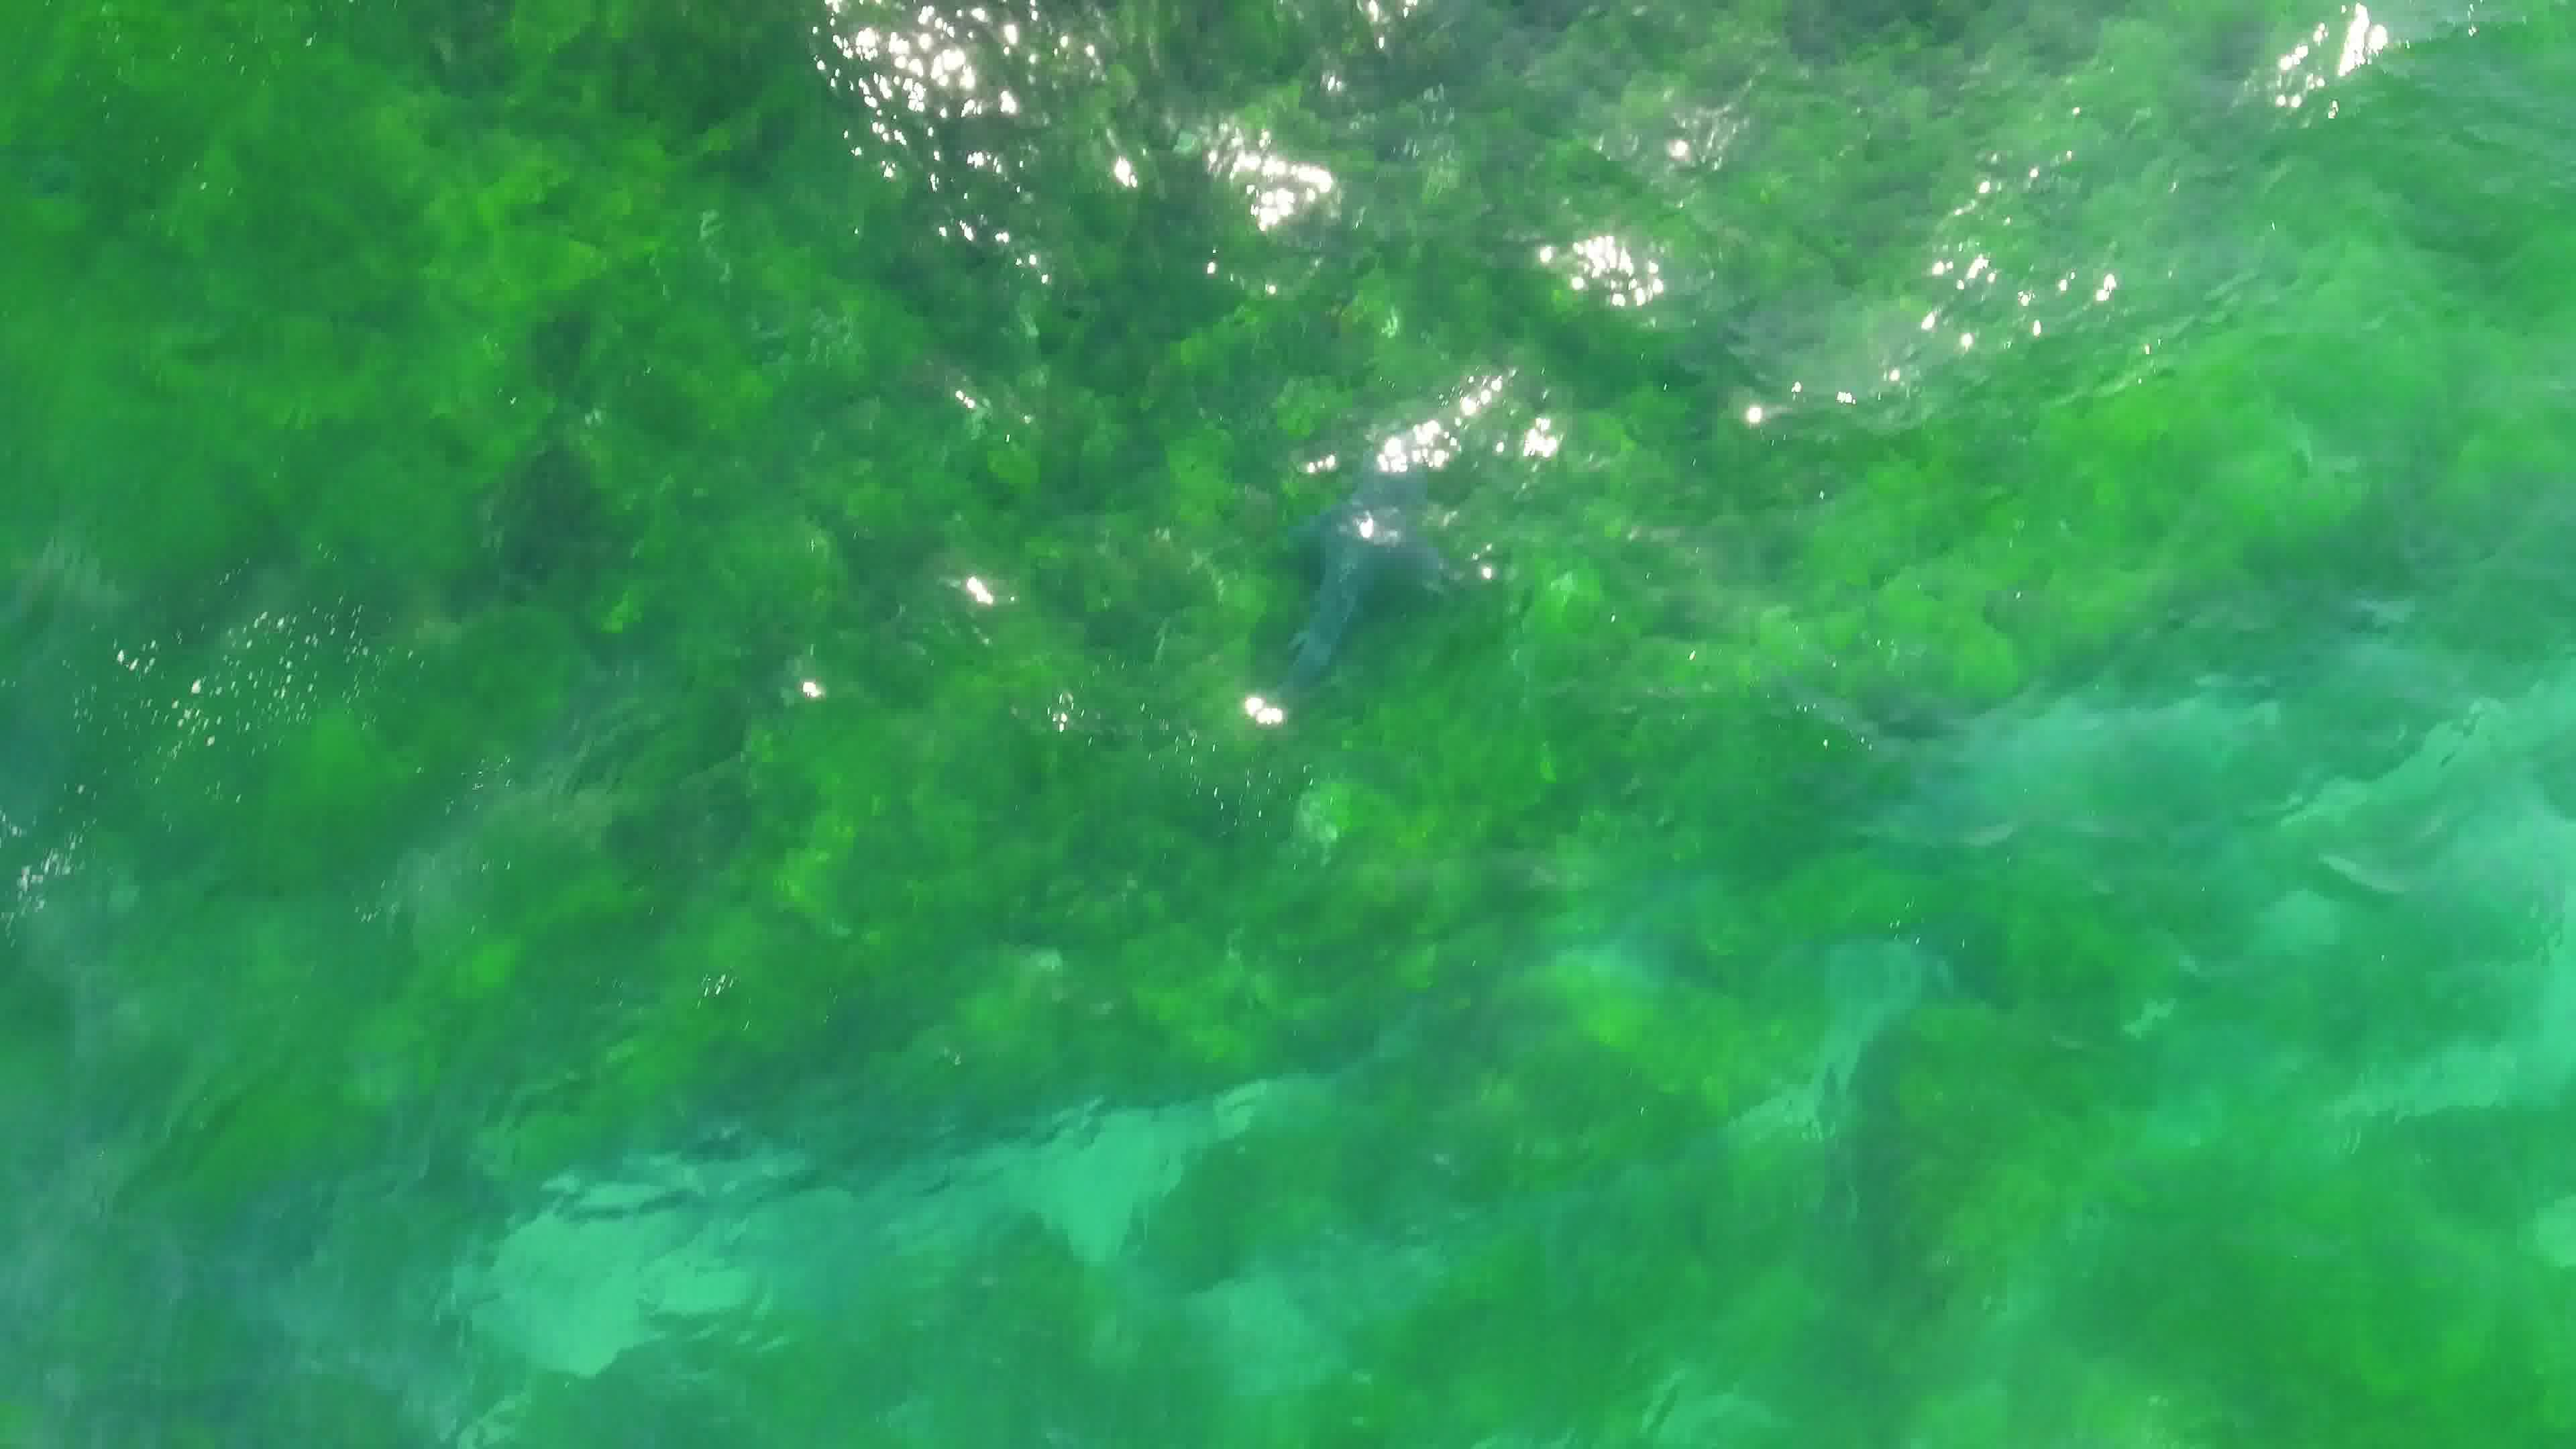shark: (1246, 433, 1472, 701)
